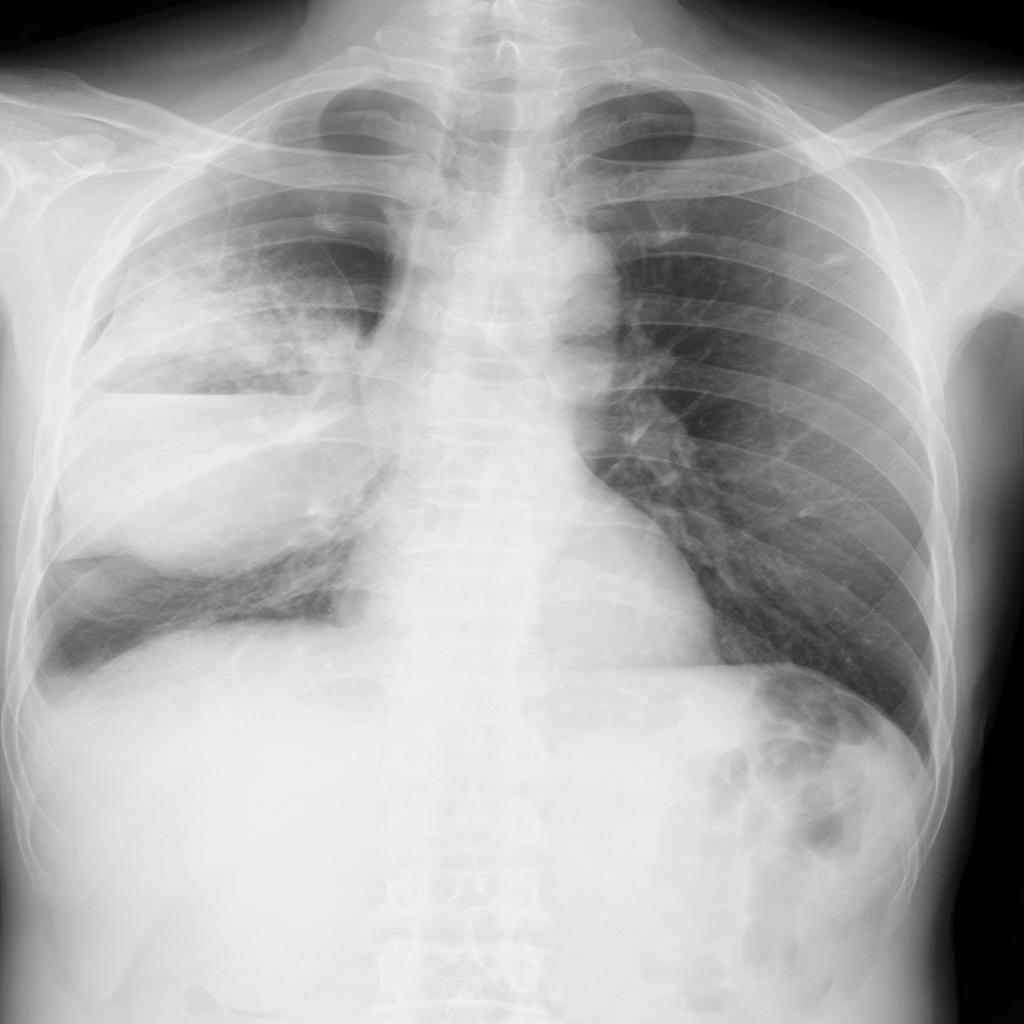Nodule: (43, 262, 383, 573)
